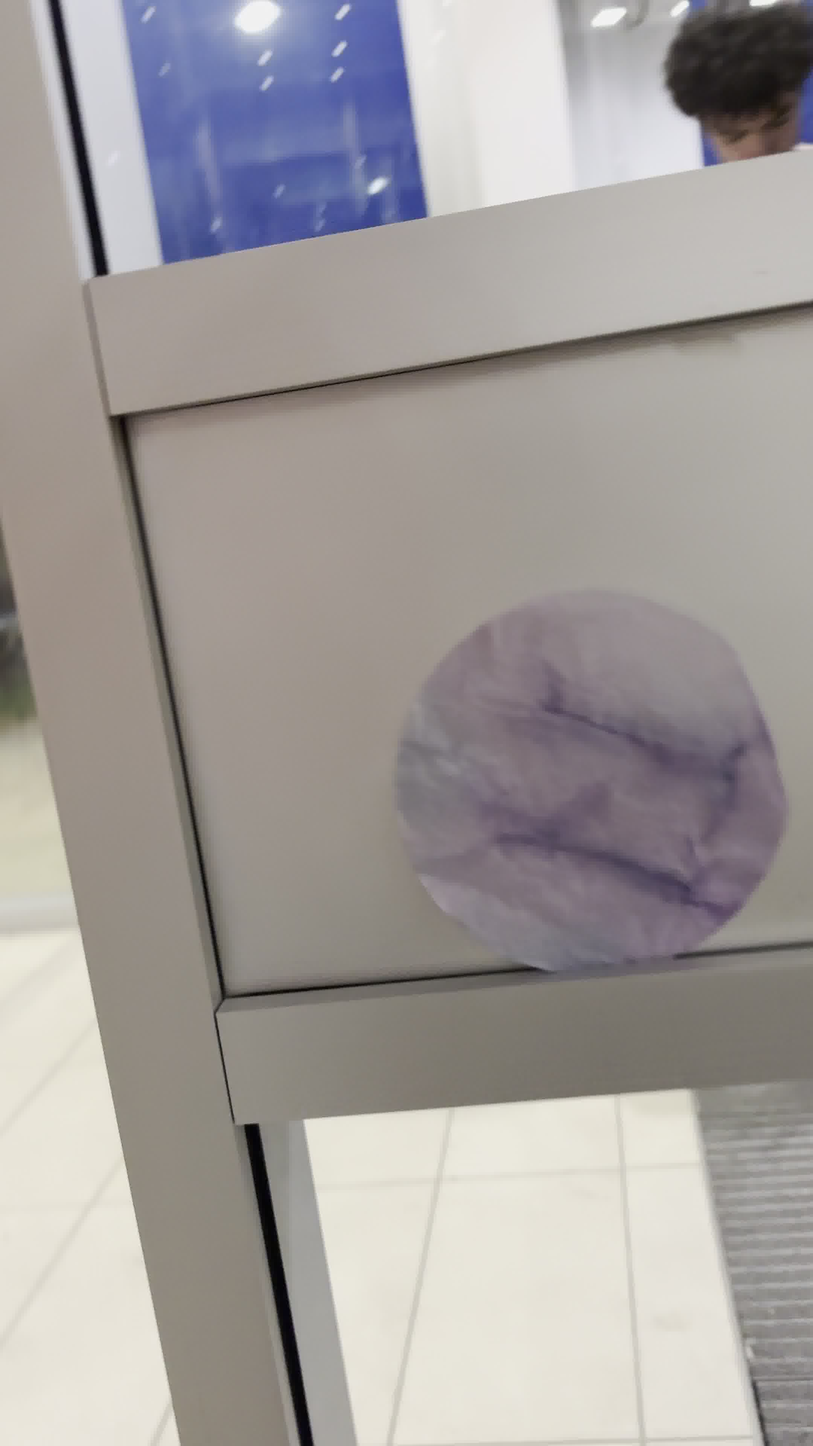Target: (370, 579, 802, 983)
